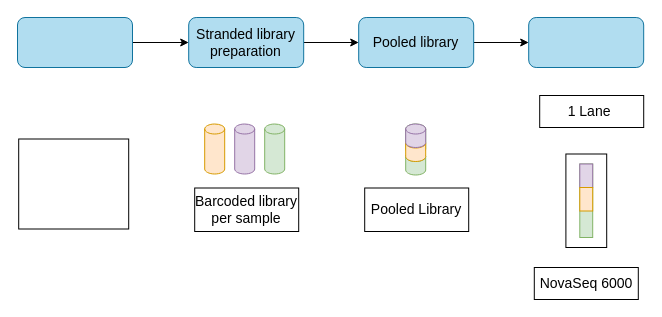
Some shapes in this 662 by 317 pixel diagram are drawn without their labels. Here are the shapes that lost their labels. From the top down, the centre of each, then its label:
At (74,42): "RNA extractions Received".
At (586,42): "Paired end Sequencing".
At (73,183): "66 Samples total".
